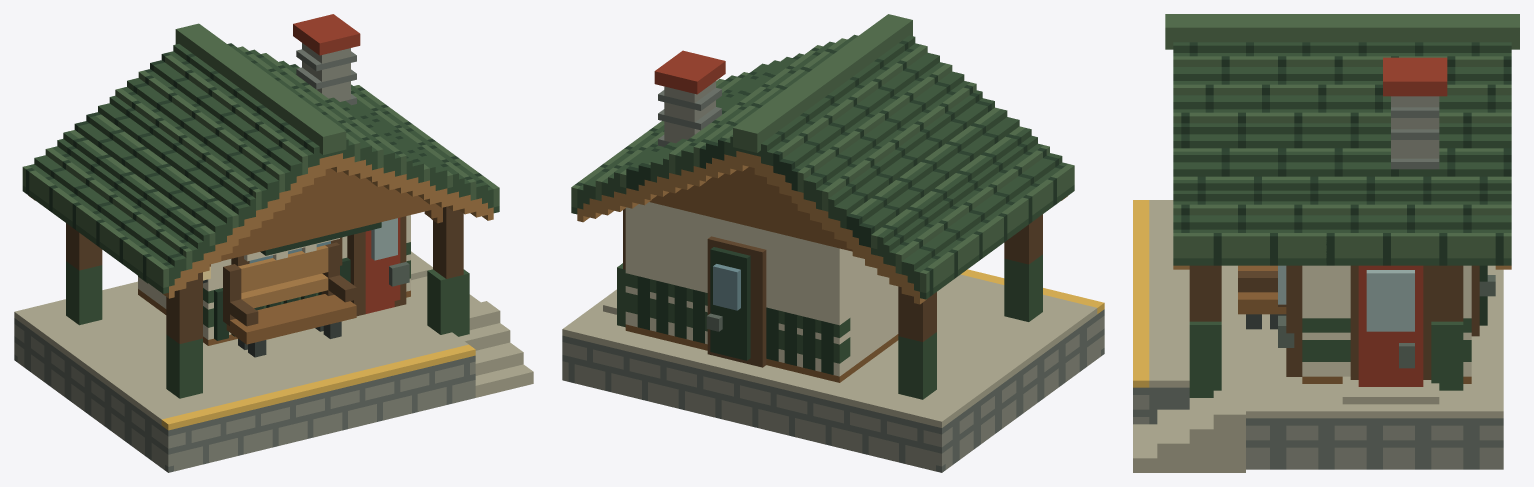
The model's file is station.glb.
3 renders of one model, left to right at view 1: azimuth 30°, elevation 25°; view 2: azimuth 150°, elevation 25°; view 3: azimuth 270°, elevation 25°, orthographic. The views are drawn at different scales.
Visible parts, largest first — view 1: station; view 2: station; view 3: station.
Part boxes in pixels (bbox=[...]): station: bbox=[14, 14, 533, 472]; station: bbox=[562, 14, 1104, 472]; station: bbox=[1133, 14, 1519, 472].
Bounding box in the file's own units: 9.45 × 7.2 × 7.2.
